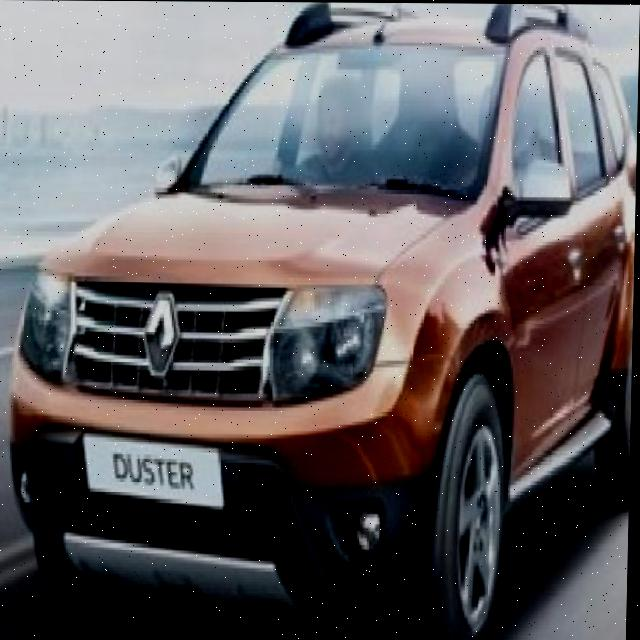plate: (79, 431, 229, 509)
